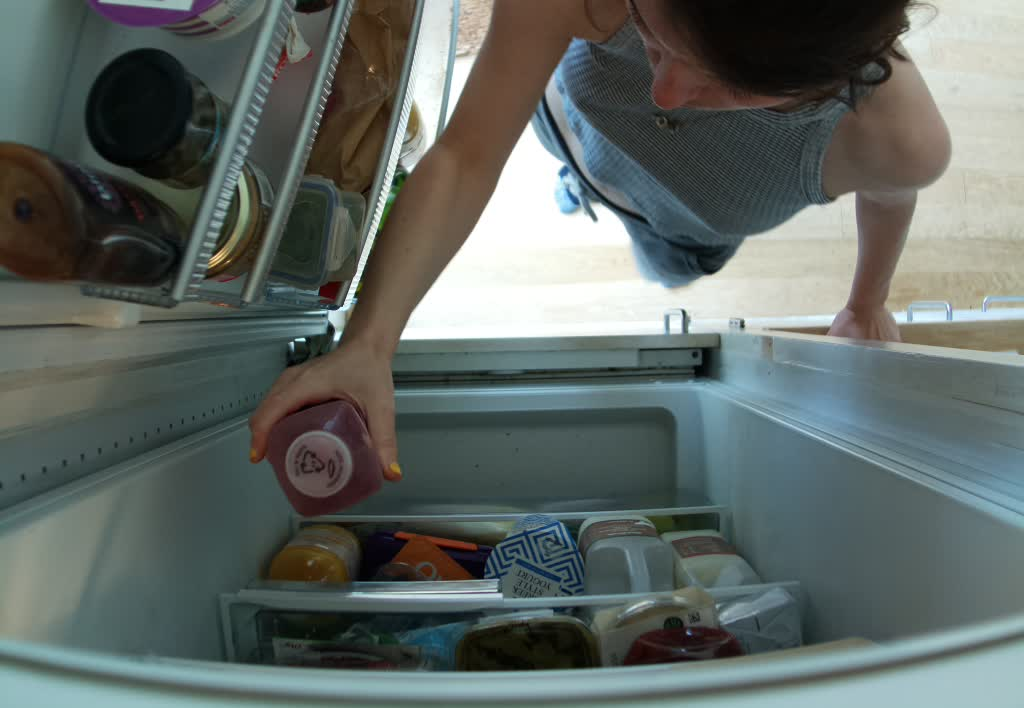juice: (263, 398, 394, 519)
